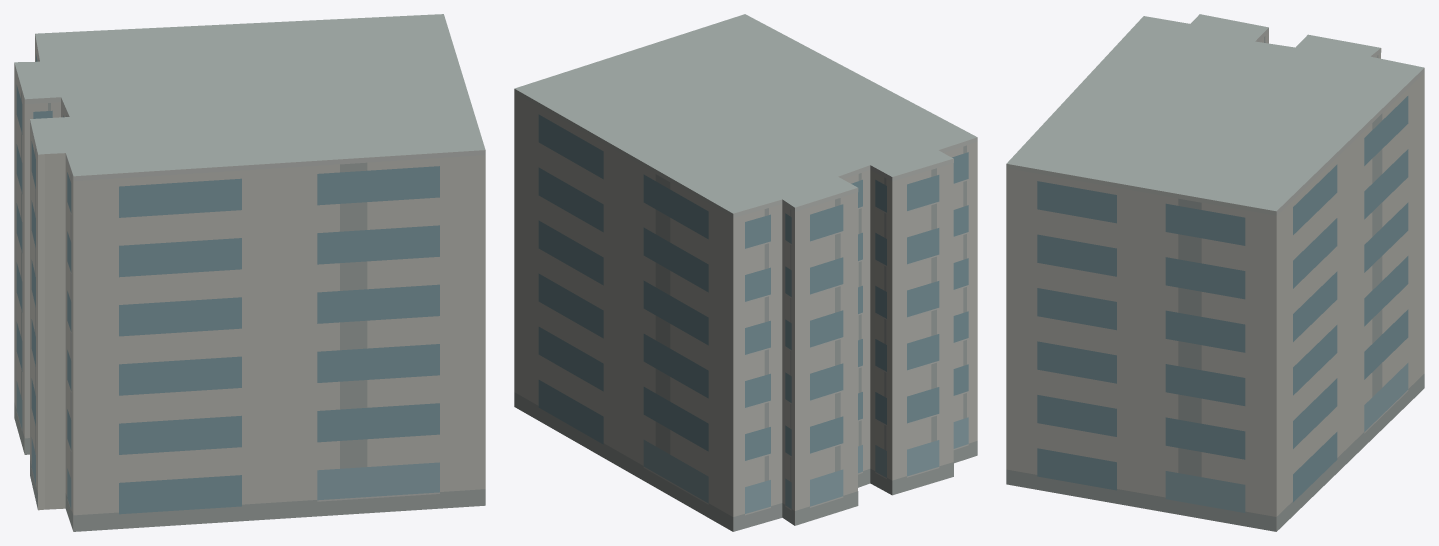
The model's file is survey-upis-32825204.glb.
3 renders of one model, left to right at view 1: azimuth 30°, elevation 25°; view 2: azimuth 150°, elevation 25°; view 3: azimuth 270°, elevation 25°, orthographic. The views are drawn at different scales.
Parts seen in each view (by area): view 1: survey-upis-32825204.tmp; view 2: survey-upis-32825204.tmp; view 3: survey-upis-32825204.tmp.
Part boxes in pixels (x1=…): survey-upis-32825204.tmp: x1=14, y1=14, x2=485, y2=531; survey-upis-32825204.tmp: x1=514, y1=14, x2=977, y2=531; survey-upis-32825204.tmp: x1=1006, y1=14, x2=1424, y2=531.
Size of the model in its own units: 22.37 by 16.94 by 20.04.
